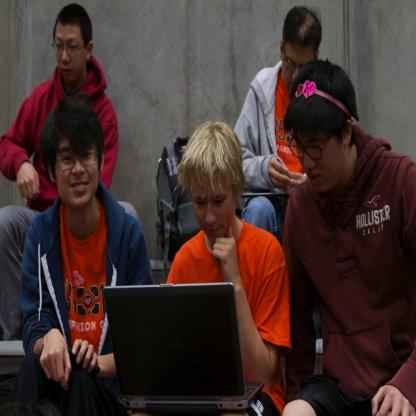board: (94, 284, 255, 410)
